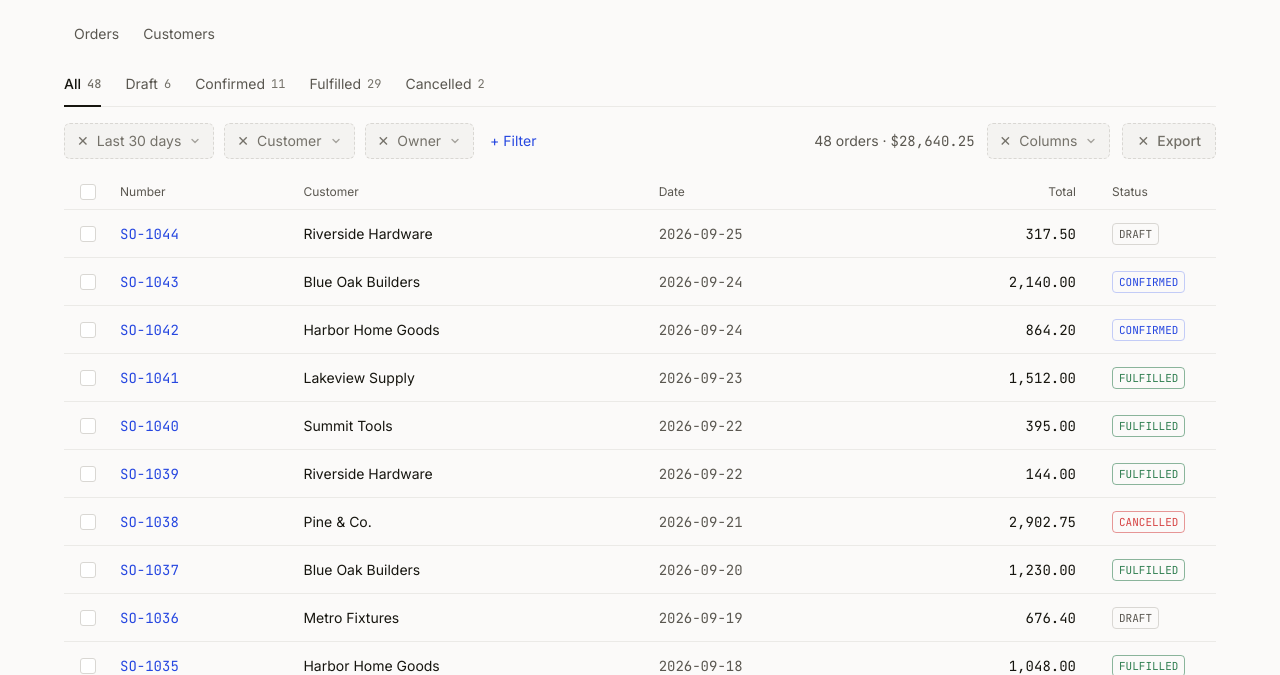
Test: OrdersScreen › raises the bulk bar when a row is selected
What coordinates should you click on to do the following:
click the checkbox named "Select SO-1044"
I would click on:
 (88, 234)
Its box is x1=80 y1=226 x2=96 y2=242.
(page scrolled)
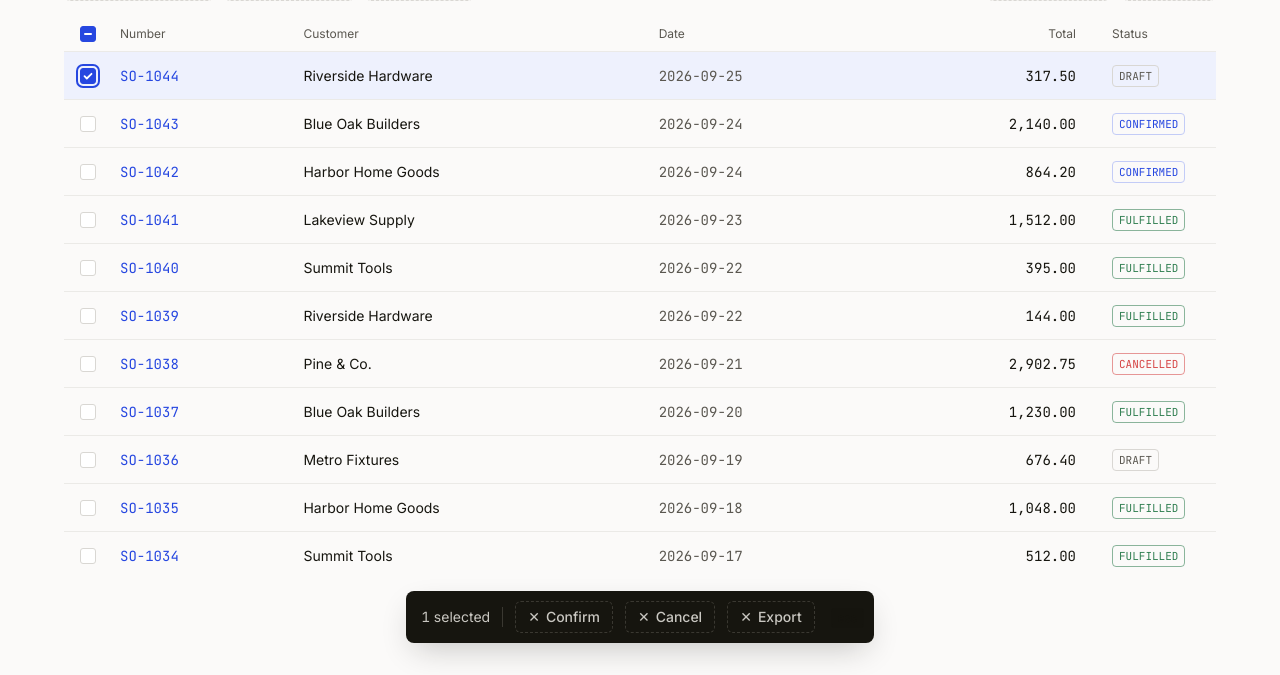
Expected: the text "1 selected" is shown, x1=422 y1=606 x2=490 y2=628
Expected: the button "✕ Confirm" is shown, x1=515 y1=601 x2=613 y2=633
